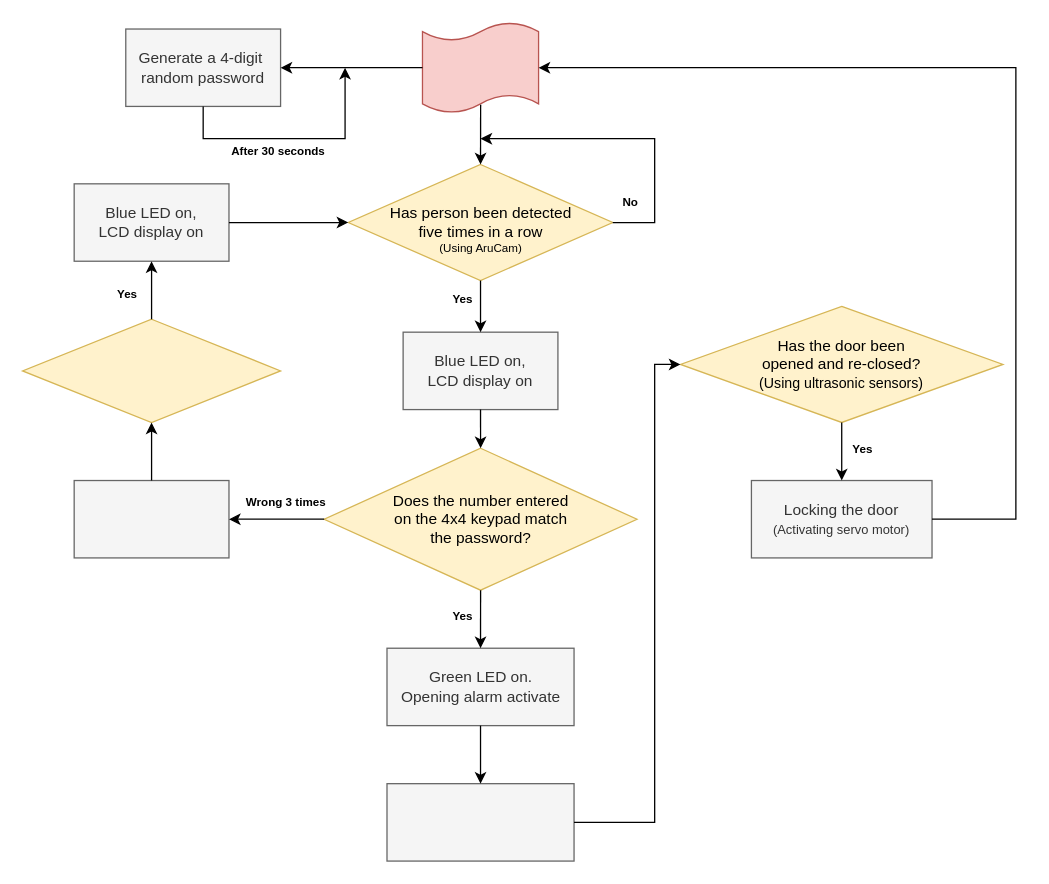
The diagram is 1049 pixels wide and 884 high, and some of its shapes have lost their labels. The box of each missing label's shape, as (x1, y1, x2, y2) in pixels:
Has a person been undetected 10 times in a row?: (21, 318, 281, 422)
Red LED on, Alert activate, LCD display off: (73, 479, 229, 558)
START: (421, 21, 539, 113)
Unlocking the door (Activating servo motor): (386, 782, 574, 861)
